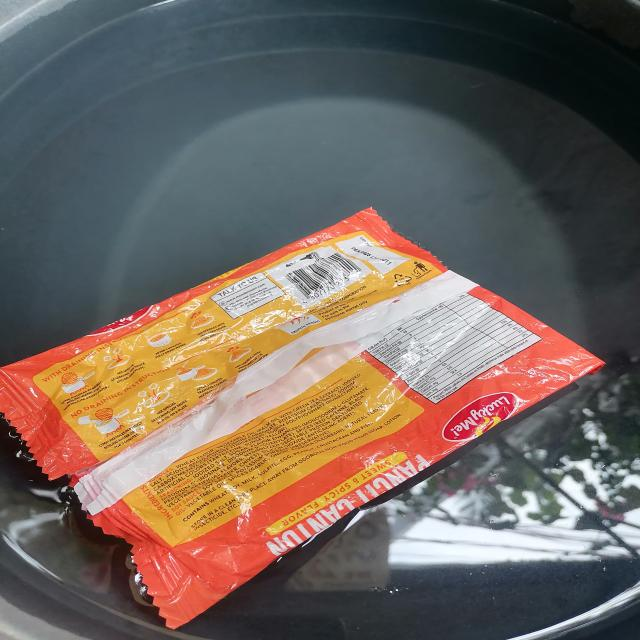Plastic Wrapper: (1, 208, 604, 628)
